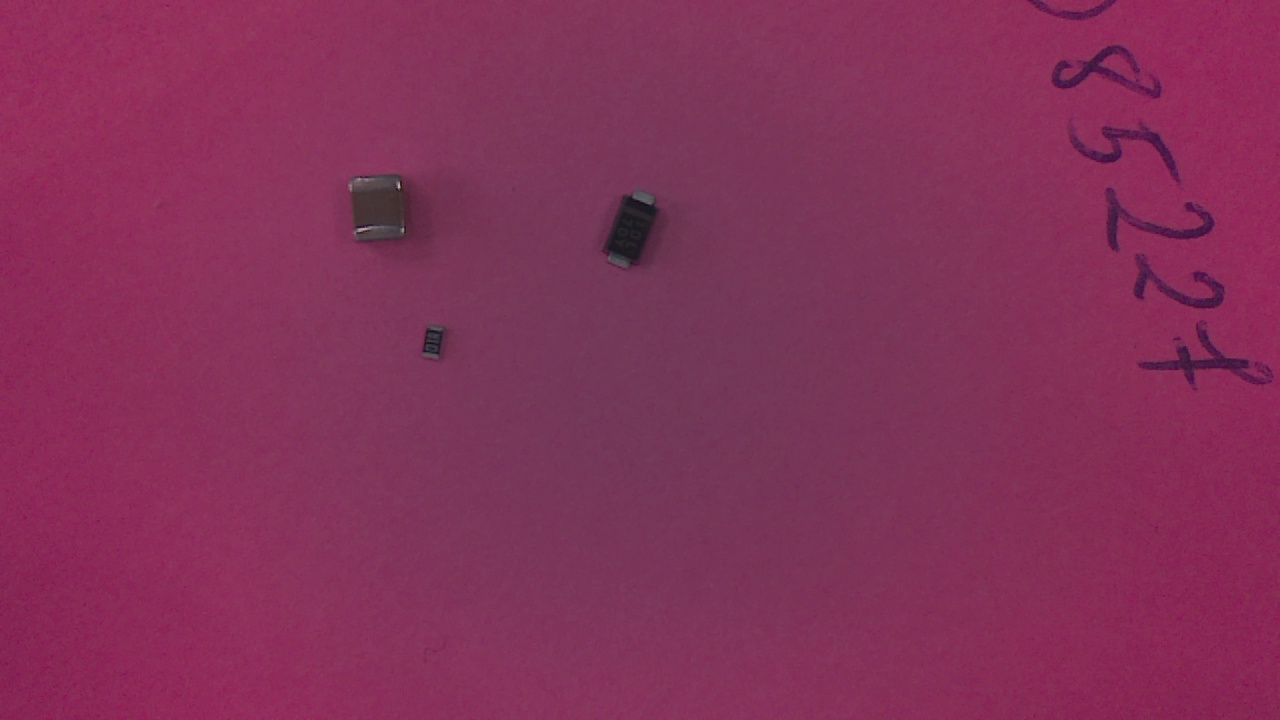Condensator: (351, 177, 420, 250)
Diode: (604, 193, 666, 277)
Resistor: (423, 331, 453, 369)
